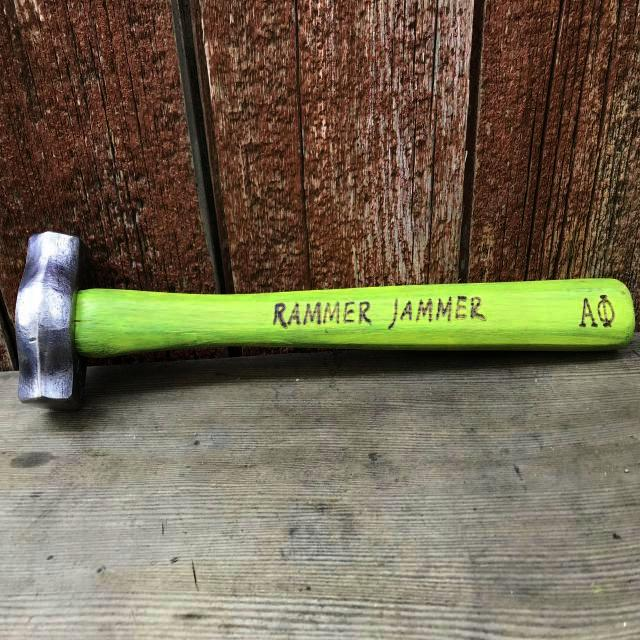hammer: (9, 220, 640, 420)
